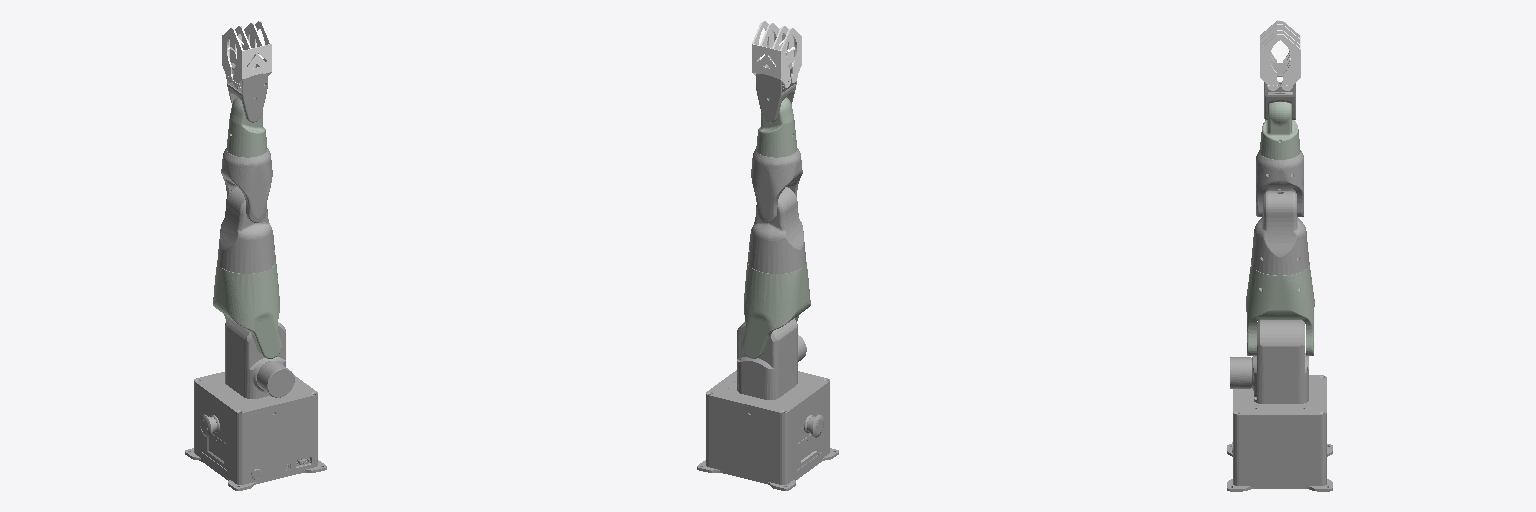
URDF robot description (xarm):
<?xml version="1.0" encoding="utf-8"?>
<!-- =================================================================================== -->
<!-- |    This document was autogenerated by xacro from xarm.urdf.xacro                | -->
<!-- |    EDITING THIS FILE BY HAND IS NOT RECOMMENDED                                 | -->
<!-- =================================================================================== -->
<robot name="xarm">
  <gazebo>
    <plugin filename="libgazebo_ros_control.so" name="gazebo_ros_control">
      <!--      <robotNamespace>/xbot2</robotNamespace>-->
      <robotSimType>gazebo_ros_control/DefaultRobotHWSim</robotSimType>
    </plugin>
  </gazebo>
  <link name="world"/>
  <joint name="virtual_joint" type="fixed">
    <parent link="world"/>
    <child link="base_link"/>
    <origin rpy="0.0 0.0 0.0" xyz="0.0 0.0 0.0"/>
  </joint>
  <link name="base_link">
    <inertial>
      <origin rpy="0 0 0" xyz="-0.0170438376621442 -0.00161939260033202 0.0724948120416346"/>
      <mass value="0.553260236209975"/>
      <inertia ixx="0.0026064369657739" ixy="-3.75417322493413E-06" ixz="-0.000130251544119884" iyy="0.0030374528540518" iyz="-6.38538659319183E-05" izz="0.00326639522571418"/>
    </inertial>
    <visual>
      <origin rpy="0 0 0" xyz="0 0 0"/>
      <geometry>
        <mesh filename="package://xarm_description/meshes/base_link.STL"/>
      </geometry>
      <material name="LightGrey">
        <color rgba="0.7 0.7 0.7 1.0"/>
      </material>
    </visual>
    <collision>
      <origin rpy="0 0 0" xyz="0 0 0"/>
      <geometry>
        <mesh filename="package://xarm_description/meshes/base_link.STL"/>
      </geometry>
    </collision>
  </link>
  <link name="arm_1_link">
    <inertial>
      <origin rpy="0 0 0" xyz="-0.000128118597624595 -0.013600859873518 0.0619700515240474"/>
      <mass value="0.116423492746118"/>
      <inertia ixx="0.000383159534984" ixy="2.54107232372875E-07" ixz="-3.85780244490042E-07" iyy="0.000273038903011898" iyz="-3.95745103630226E-05" izz="0.000290856563695735"/>
    </inertial>
    <visual>
      <origin rpy="0 0 0" xyz="0 0 0"/>
      <geometry>
        <mesh filename="package://xarm_description/meshes/arm_link1.STL"/>
      </geometry>
      <material name="">
        <color rgba="0.7 0.7 0.7 1.0"/>
      </material>
    </visual>
    <collision>
      <origin rpy="0 0 0" xyz="0 0 0"/>
      <geometry>
        <mesh filename="package://xarm_description/meshes/arm_link1.STL"/>
      </geometry>
    </collision>
  </link>
  <joint name="arm_1_joint" type="revolute">
    <origin rpy="0 0 0" xyz="0 0 0.1398"/>
    <parent link="base_link"/>
    <child link="arm_1_link"/>
    <axis xyz="0 0 -1"/>
    <limit effort="100" lower="-1.570796327" upper="1.570796327" velocity="0.35"/>
    <dynamics damping="1.0" friction="1.0"/>
  </joint>
  <link name="arm_2_link">
    <inertial>
      <origin rpy="0 0 0" xyz="-0.0167470721830778 0.0837012292062612 0.0494160246373337"/>
      <mass value="0.13106183966175"/>
      <inertia ixx="0.000452532131006666" ixy="1.7225875446078E-05" ixz="-5.65576192946032E-07" iyy="0.000314237741777992" iyz="3.03456757973936E-07" izz="0.000368104794036537"/>
    </inertial>
    <visual>
      <origin rpy="0 0 0" xyz="0 0 0"/>
      <geometry>
        <mesh filename="package://xarm_description/meshes/arm_link2.STL"/>
      </geometry>
      <material name="">
        <color rgba="0.7 0.75 0.7 1.0"/>
      </material>
    </visual>
    <collision>
      <origin rpy="0 0 0" xyz="0 0 0"/>
      <geometry>
        <mesh filename="package://xarm_description/meshes/arm_link2.STL"/>
      </geometry>
    </collision>
  </link>
  <joint name="arm_2_joint" type="revolute">
    <origin rpy="1.5708 0 0" xyz="0 0.05 0.095"/>
    <parent link="arm_1_link"/>
    <child link="arm_2_link"/>
    <axis xyz="0 0 1"/>
    <limit effort="100" lower="-1.92" upper="1.4" velocity="0.35"/>
    <dynamics damping="1.0" friction="1.0"/>
  </joint>
  <link name="arm_3_link">
    <inertial>
      <origin rpy="0 0 0" xyz="8.14220214549778E-05 -2.55521254908583E-05 0.0513480682450201"/>
      <mass value="0.086404289942178"/>
      <inertia ixx="0.00019238332088768" ixy="9.37345781486257E-10" ixz="-9.86128909629744E-07" iyy="0.000179094376632573" iyz="5.16398573265577E-08" izz="0.000133516037906134"/>
    </inertial>
    <visual>
      <origin rpy="0 0 0" xyz="0 0 0"/>
      <geometry>
        <mesh filename="package://xarm_description/meshes/arm_link3.STL"/>
      </geometry>
      <material name="">
        <color rgba="0.7 0.7 0.7 1.0"/>
      </material>
    </visual>
    <collision>
      <origin rpy="0 0 0" xyz="0 0 0"/>
      <geometry>
        <mesh filename="package://xarm_description/meshes/arm_link3.STL"/>
      </geometry>
    </collision>
  </link>
  <joint name="arm_3_joint" type="revolute">
    <origin rpy="-1.5708 0 0" xyz="-0.0185 0.145 0.0495"/>
    <parent link="arm_2_link"/>
    <child link="arm_3_link"/>
    <axis xyz="0 0 -1"/>
    <limit effort="100" lower="-2" upper="2" velocity="0.35"/>
    <dynamics damping="1.0" friction="1.0"/>
  </joint>
  <link name="arm_4_link">
    <inertial>
      <origin rpy="0 0 0" xyz="-0.000397266371060974 0.0598499691331028 0.0332505816207749"/>
      <mass value="0.0706309208099729"/>
      <inertia ixx="0.000125455196294012" ixy="4.89969471646502E-07" ixz="1.48744519872573E-11" iyy="9.24064014654882E-05" iyz="-1.65705397681498E-09" izz="0.00010157515036857"/>
    </inertial>
    <visual>
      <origin rpy="0 0 0" xyz="0 0 0"/>
      <geometry>
        <mesh filename="package://xarm_description/meshes/arm_link4.STL"/>
      </geometry>
      <material name="">
        <color rgba="0.7 0.7 0.7 1.0"/>
      </material>
    </visual>
    <collision>
      <origin rpy="0 0 0" xyz="0 0 0"/>
      <geometry>
        <mesh filename="package://xarm_description/meshes/arm_link4.STL"/>
      </geometry>
    </collision>
  </link>
  <joint name="arm_4_joint" type="revolute">
    <origin rpy="1.5708 0 0" xyz="0.0005 0.033 0.105"/>
    <parent link="arm_3_link"/>
    <child link="arm_4_link"/>
    <axis xyz="0 0 1"/>
    <limit effort="100" lower="-1.57" upper="1.57" velocity="0.35"/>
    <dynamics damping="1.0" friction="1.0"/>
  </joint>
  <link name="arm_5_link">
    <inertial>
      <origin rpy="0 0 0" xyz="-0.000727167883412056 1.56292209022133E-07 0.0448838742871538"/>
      <mass value="0.0364674809635235"/>
      <inertia ixx="4.04278205884715E-05" ixy="-4.07023183502984E-11" ixz="4.60079695225723E-07" iyy="4.23703736642409E-05" iyz="-1.25762158698788E-11" izz="2.78990988682426E-05"/>
    </inertial>
    <visual>
      <origin rpy="0 0 0" xyz="0 0 0"/>
      <geometry>
        <mesh filename="package://xarm_description/meshes/arm_link5.STL"/>
      </geometry>
      <material name="">
        <color rgba="0.7 0.75 0.7 1.0"/>
      </material>
    </visual>
    <collision>
      <origin rpy="0 0 0" xyz="0 0 0"/>
      <geometry>
        <mesh filename="package://xarm_description/meshes/arm_link5.STL"/>
      </geometry>
      <material name="">
        <color rgba="0.7 0.75 0.7 1.0"/>
      </material>
    </collision>
  </link>
  <joint name="arm_5_joint" type="revolute">
    <origin rpy="-1.5708 0 -0.004902" xyz="0.00051471 0.105 0.03325"/>
    <parent link="arm_4_link"/>
    <child link="arm_5_link"/>
    <axis xyz="0 0 -1"/>
    <limit effort="100" lower="-2" upper="2" velocity="0.35"/>
    <dynamics damping="1.0" friction="1.0"/>
  </joint>
  <link name="arm_6_link">
    <inertial>
      <origin rpy="0 0 0" xyz="0.00213188955016766 0.0459939849274835 0.0209144934053668"/>
      <mass value="0.0283301622794919"/>
      <inertia ixx="3.08264693220698E-05" ixy="-4.86665976397017E-07" ixz="1.45743977499393E-07" iyy="2.03804574554996E-05" iyz="4.96221959166978E-08" izz="2.47043306516181E-05"/>
    </inertial>
    <visual>
      <origin rpy="0 0 0" xyz="0 0 0"/>
      <geometry>
        <mesh filename="package://xarm_description/meshes/arm_link6.STL"/>
      </geometry>
      <material name="">
        <color rgba="0.7 0.7 0.7 1.0"/>
      </material>
    </visual>
    <collision>
      <origin rpy="0 0 0" xyz="0 0 0"/>
      <geometry>
        <mesh filename="package://xarm_description/meshes/arm_link6.STL"/>
      </geometry>
    </collision>
  </link>
  <joint name="arm_6_joint" type="revolute">
    <origin rpy="1.5708 -0.004902 0" xyz="0 0.0215 0.075"/>
    <parent link="arm_5_link"/>
    <child link="arm_6_link"/>
    <axis xyz="0 0 1"/>
    <limit effort="100" lower="-1.57" upper="0.52" velocity="0.35"/>
    <dynamics damping="1.0" friction="1.0"/>
  </joint>
  <link name="gripper_1_link">
    <inertial>
      <origin rpy="0 0 0" xyz="-0.010164529829209 -0.0428625582773113 -0.0290009634440926"/>
      <mass value="0.0229473565168191"/>
      <inertia ixx="2.67319833363079E-05" ixy="5.28739561760064E-07" ixz="4.53208934357424E-10" iyy="1.30658365460368E-05" iyz="8.86316306994805E-10" izz="1.74706100511411E-05"/>
    </inertial>
    <visual>
      <origin rpy="0 0 0" xyz="0 0 0"/>
      <geometry>
        <mesh filename="package://xarm_description/meshes/gipper_link1.STL"/>
      </geometry>
      <material name="">
        <color rgba="1 1 1 1"/>
      </material>
    </visual>
    <collision>
      <origin rpy="0 0 0" xyz="0 0 0"/>
      <geometry>
        <mesh filename="package://xarm_description/meshes/gipper_link1.STL"/>
      </geometry>
    </collision>
  </link>
  <joint name="gripper_1_joint" type="revolute">
    <origin rpy="3.1367 1.5708 0" xyz="-0.029493 0.062645 0.03295"/>
    <parent link="arm_6_link"/>
    <child link="gripper_1_link"/>
    <axis xyz="0 0 -1"/>
    <limit effort="20" lower="0" upper="0.7" velocity="0.35"/>
    <dynamics damping="1.0" friction="1.0"/>
  </joint>
  <link name="gripper_2_link">
    <inertial>
      <origin rpy="0 0 0" xyz="-0.0101244857399807 -0.0426966769105175 0.0289990675316095"/>
      <mass value="0.0230365589670101"/>
      <inertia ixx="2.69624656070297E-05" ixy="4.89378228982721E-07" ixz="4.53308989647818E-10" iyy="1.31475134895181E-05" iyz="9.01986586877508E-10" izz="1.76482216371948E-05"/>
    </inertial>
    <visual>
      <origin rpy="0 0 0" xyz="0 0 0"/>
      <geometry>
        <mesh filename="package://xarm_description/meshes/gipper_link2.STL"/>
      </geometry>
      <material name="">
        <color rgba="1 1 1 1"/>
      </material>
    </visual>
    <collision>
      <origin rpy="0 0 0" xyz="0 0 0"/>
      <geometry>
        <mesh filename="package://xarm_description/meshes/gipper_link2.STL"/>
      </geometry>
    </collision>
  </link>
  <joint name="gripper_2_joint" type="revolute">
    <origin rpy="3.14159 -1.5708 0" xyz="-0.029493 0.062645 0.00945"/>
    <parent link="arm_6_link"/>
    <child link="gripper_2_link"/>
    <axis xyz="0 0 -1"/>
    <limit effort="20" lower="0" upper="0.7" velocity="0.35"/>
    <dynamics damping="1.0" friction="1.0"/>
  </joint>
  <link name="gripper_centor_link">
  </link>
  <joint name="gripper_centor_joint" type="fixed">
    <origin rpy="3.1416 1.5708 0" xyz="-0.0001869 0.12514 0.0212"/>
    <parent link="arm_6_link"/>
    <child link="gripper_centor_link"/>
    <axis xyz="0 0 0"/>
  </joint>
  <transmission name="arm_1_trans">
    <type>transmission_interface/SimpleTransmission</type>
    <actuator name="arm_1_motor">
      <mechanicalReduction>1.0</mechanicalReduction>
    </actuator>
    <joint name="arm_1_joint">
      <offset>0.0</offset>
      <hardwareInterface>hardware_interface/PositionJointInterface</hardwareInterface>
      <!--        <hardwareInterface>hardware_interface/EffortJointInterface</hardwareInterface>-->
      <!--        <hardwareInterface>hardware_interface/JointStateInterface</hardwareInterface>-->
    </joint>
  </transmission>
  <transmission name="arm_2_trans">
    <type>transmission_interface/SimpleTransmission</type>
    <actuator name="arm_2_motor">
      <mechanicalReduction>1.0</mechanicalReduction>
    </actuator>
    <joint name="arm_2_joint">
      <offset>0.0</offset>
      <hardwareInterface>hardware_interface/PositionJointInterface</hardwareInterface>
      <!--        <hardwareInterface>hardware_interface/EffortJointInterface</hardwareInterface>-->
      <!--        <hardwareInterface>hardware_interface/JointStateInterface</hardwareInterface>-->
    </joint>
  </transmission>
  <transmission name="arm_3_trans">
    <type>transmission_interface/SimpleTransmission</type>
    <actuator name="arm_3_motor">
      <mechanicalReduction>1.0</mechanicalReduction>
    </actuator>
    <joint name="arm_3_joint">
      <offset>0.0</offset>
      <hardwareInterface>hardware_interface/PositionJointInterface</hardwareInterface>
      <!--        <hardwareInterface>hardware_interface/EffortJointInterface</hardwareInterface>-->
      <!--        <hardwareInterface>hardware_interface/JointStateInterface</hardwareInterface>-->
    </joint>
  </transmission>
  <transmission name="arm_4_trans">
    <type>transmission_interface/SimpleTransmission</type>
    <actuator name="arm_4_motor">
      <mechanicalReduction>1.0</mechanicalReduction>
    </actuator>
    <joint name="arm_4_joint">
      <offset>0.0</offset>
      <hardwareInterface>hardware_interface/PositionJointInterface</hardwareInterface>
      <!--        <hardwareInterface>hardware_interface/EffortJointInterface</hardwareInterface>-->
      <!--        <hardwareInterface>hardware_interface/JointStateInterface</hardwareInterface>-->
    </joint>
  </transmission>
  <transmission name="arm_5_trans">
    <type>transmission_interface/SimpleTransmission</type>
    <actuator name="arm_5_motor">
      <mechanicalReduction>1.0</mechanicalReduction>
    </actuator>
    <joint name="arm_5_joint">
      <offset>0.0</offset>
      <hardwareInterface>hardware_interface/PositionJointInterface</hardwareInterface>
      <!--        <hardwareInterface>hardware_interface/EffortJointInterface</hardwareInterface>-->
      <!--        <hardwareInterface>hardware_interface/JointStateInterface</hardwareInterface>-->
    </joint>
  </transmission>
  <transmission name="arm_6_trans">
    <type>transmission_interface/SimpleTransmission</type>
    <actuator name="arm_6_motor">
      <mechanicalReduction>1.0</mechanicalReduction>
    </actuator>
    <joint name="arm_6_joint">
      <offset>0.0</offset>
      <hardwareInterface>hardware_interface/PositionJointInterface</hardwareInterface>
      <!--        <hardwareInterface>hardware_interface/EffortJointInterface</hardwareInterface>-->
      <!--        <hardwareInterface>hardware_interface/JointStateInterface</hardwareInterface>-->
    </joint>
  </transmission>
  <transmission name="gripper_1_trans">
    <type>transmission_interface/SimpleTransmission</type>
    <actuator name="gripper_1_motor">
      <mechanicalReduction>1.0</mechanicalReduction>
    </actuator>
    <joint name="gripper_1_joint">
      <offset>0.0</offset>
      <hardwareInterface>hardware_interface/PositionJointInterface</hardwareInterface>
      <!--        <hardwareInterface>hardware_interface/EffortJointInterface</hardwareInterface>-->
      <!--        <hardwareInterface>hardware_interface/JointStateInterface</hardwareInterface>-->
    </joint>
  </transmission>
  <transmission name="gripper_2_trans">
    <type>transmission_interface/SimpleTransmission</type>
    <actuator name="gripper_2_motor">
      <mechanicalReduction>1.0</mechanicalReduction>
    </actuator>
    <joint name="gripper_2_joint">
      <offset>0.0</offset>
      <hardwareInterface>hardware_interface/PositionJointInterface</hardwareInterface>
      <!--        <hardwareInterface>hardware_interface/EffortJointInterface</hardwareInterface>-->
      <!--        <hardwareInterface>hardware_interface/JointStateInterface</hardwareInterface>-->
    </joint>
  </transmission>
  <gazebo reference="arm_1_link">
    <mu1>0.9</mu1>
    <mu2>0.9</mu2>
    <material>Gazebo/DarkGrey</material>
  </gazebo>
  <gazebo reference="arm_1_joint">
    <implicitSpringDamper>1</implicitSpringDamper>
  </gazebo>
  <gazebo reference="arm_2_link">
    <mu1>0.9</mu1>
    <mu2>0.9</mu2>
    <material>Gazebo/DarkGrey</material>
  </gazebo>
  <gazebo reference="arm_2_joint">
    <implicitSpringDamper>1</implicitSpringDamper>
  </gazebo>
  <gazebo reference="arm_3_link">
    <mu1>0.9</mu1>
    <mu2>0.9</mu2>
    <material>Gazebo/DarkGrey</material>
  </gazebo>
  <gazebo reference="arm_3_joint">
    <implicitSpringDamper>1</implicitSpringDamper>
  </gazebo>
  <gazebo reference="arm_4_link">
    <mu1>0.9</mu1>
    <mu2>0.9</mu2>
    <material>Gazebo/DarkGrey</material>
  </gazebo>
  <gazebo reference="arm_4_joint">
    <implicitSpringDamper>1</implicitSpringDamper>
  </gazebo>
  <gazebo reference="arm_5_link">
    <mu1>0.9</mu1>
    <mu2>0.9</mu2>
    <material>Gazebo/DarkGrey</material>
  </gazebo>
  <gazebo reference="arm_5_joint">
    <implicitSpringDamper>1</implicitSpringDamper>
  </gazebo>
  <gazebo reference="arm_6_link">
    <mu1>0.9</mu1>
    <mu2>0.9</mu2>
    <material>Gazebo/DarkGrey</material>
  </gazebo>
  <gazebo reference="arm_6_joint">
    <implicitSpringDamper>1</implicitSpringDamper>
  </gazebo>
  <gazebo reference="gripper_1_link">
    <mu1>0.9</mu1>
    <mu2>0.9</mu2>
    <material>Gazebo/DarkGrey</material>
  </gazebo>
  <gazebo reference="gripper_1_joint">
    <implicitSpringDamper>1</implicitSpringDamper>
  </gazebo>
  <gazebo reference="gripper_2_link">
    <mu1>0.9</mu1>
    <mu2>0.9</mu2>
    <material>Gazebo/DarkGrey</material>
  </gazebo>
  <gazebo reference="gripper_2_joint">
    <implicitSpringDamper>1</implicitSpringDamper>
  </gazebo>
</robot>

--- Render facts (derived) ---
Views: 3 orthographic renders of the robot side by side, from view 1: azimuth 30°, elevation 25°; view 2: azimuth 150°, elevation 25°; view 3: azimuth 270°, elevation 25°.
Robot: xarm — 11 links, 10 joints (8 revolute, 2 fixed); root link world; default pose: every joint at zero.
Visible links, largest first — view 1: base_link, arm_2_link, arm_1_link, arm_3_link, arm_4_link, arm_5_link, gripper_1_link, arm_6_link, gripper_2_link; view 2: base_link, arm_2_link, arm_1_link, arm_3_link, arm_4_link, arm_5_link, gripper_2_link, arm_6_link, gripper_1_link; view 3: base_link, arm_1_link, arm_3_link, arm_2_link, arm_4_link, arm_5_link, gripper_2_link, gripper_1_link, arm_6_link.
Link boxes in pixels (x1,y1,x2,y2): base_link: (185, 372, 326, 490); arm_2_link: (213, 263, 281, 358); arm_1_link: (225, 317, 294, 398); arm_3_link: (217, 187, 275, 273); arm_4_link: (221, 148, 272, 222); arm_5_link: (227, 97, 267, 157); gripper_1_link: (232, 22, 271, 87); arm_6_link: (227, 58, 267, 122); gripper_2_link: (222, 21, 261, 82); base_link: (697, 370, 838, 490); arm_2_link: (742, 262, 810, 358); arm_1_link: (737, 318, 806, 399); arm_3_link: (748, 187, 805, 273); arm_4_link: (751, 148, 802, 222); arm_5_link: (756, 97, 796, 157); gripper_2_link: (752, 22, 791, 87); arm_6_link: (756, 59, 796, 122); gripper_1_link: (762, 21, 801, 82); base_link: (1227, 375, 1332, 491); arm_1_link: (1230, 320, 1308, 403); arm_3_link: (1251, 191, 1309, 275); arm_2_link: (1246, 264, 1314, 355); arm_4_link: (1256, 150, 1303, 216); arm_5_link: (1260, 102, 1300, 159); gripper_2_link: (1280, 21, 1300, 90); gripper_1_link: (1260, 20, 1279, 90); arm_6_link: (1264, 63, 1295, 119).
Bounding box of the posed robot: 0.192 × 0.18 × 0.8232 m (x, y, z).
Meshes: 9 distinct files referenced, 9 mesh visuals loaded (9 binary STL).